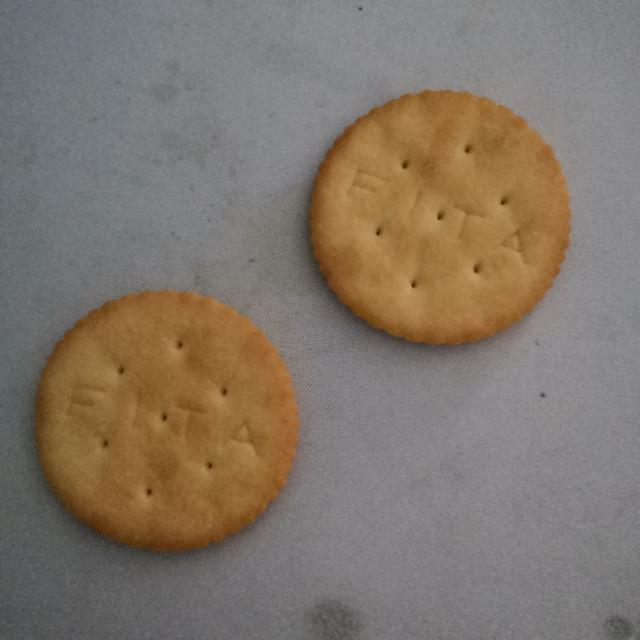Intact: (28, 284, 310, 561), (302, 81, 580, 353)
